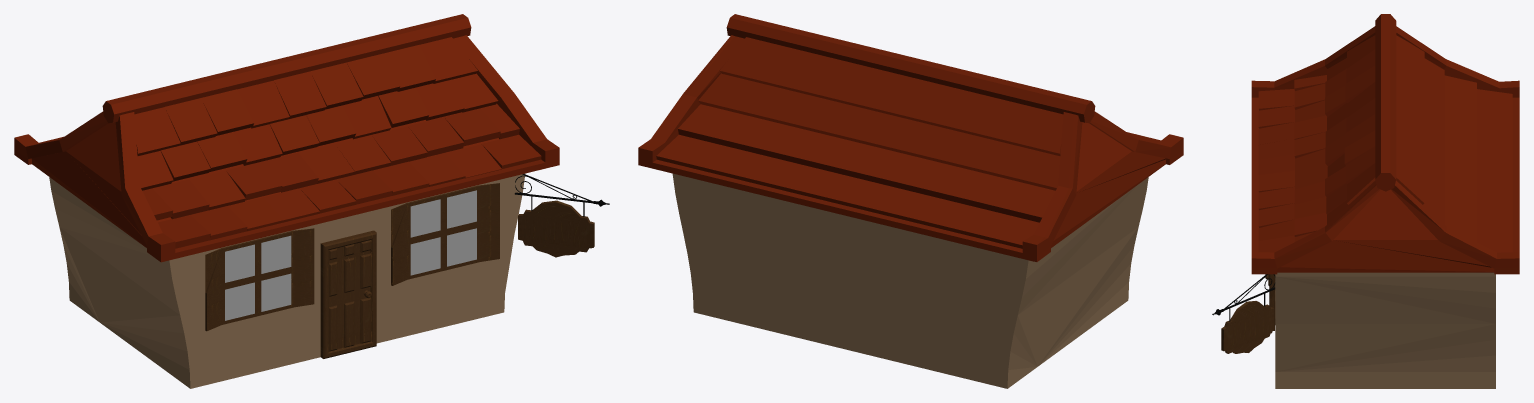
File: danhouselonghousethick.fbx
The picture shows the model from 3 angles, left to right: view 1: azimuth 30°, elevation 25°; view 2: azimuth 150°, elevation 25°; view 3: azimuth 270°, elevation 25°; orthographic projection. The views are drawn at different scales.
Visible parts, largest first — view 1: polySurface17; view 2: polySurface17; view 3: polySurface17.
Boxes of the visible parts, x1,y1,x2,y2 form: polySurface17: [14, 14, 609, 388]; polySurface17: [638, 14, 1183, 388]; polySurface17: [1212, 14, 1519, 388].
Bounding box in the file's own units: 11.75 × 6.49 × 8.01.
